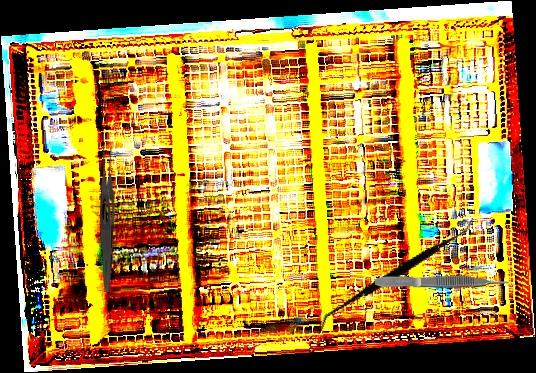Dressing Forceps: (98, 145, 118, 293)
Spatula Surgical: (317, 178, 477, 371)
Tissue Forceps: (374, 274, 510, 291)
